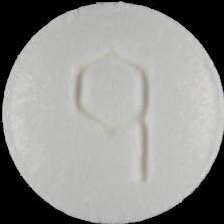63629-2614: (0, 0, 224, 224)
